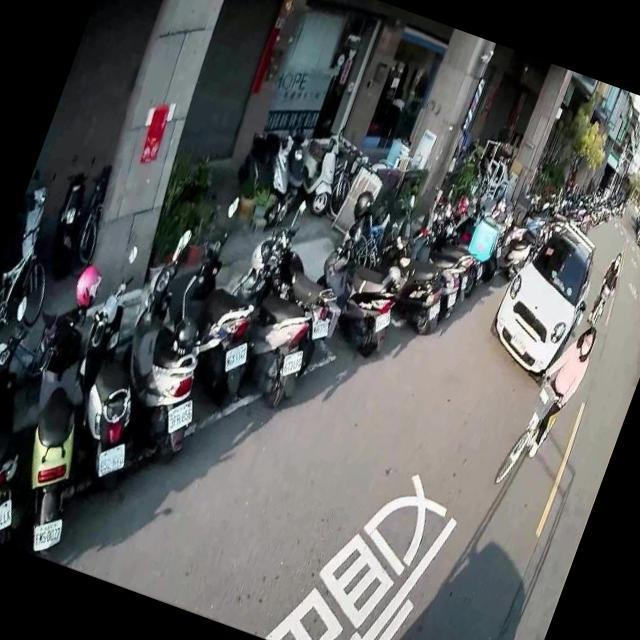person: (510, 310, 604, 470), (583, 248, 628, 332)
